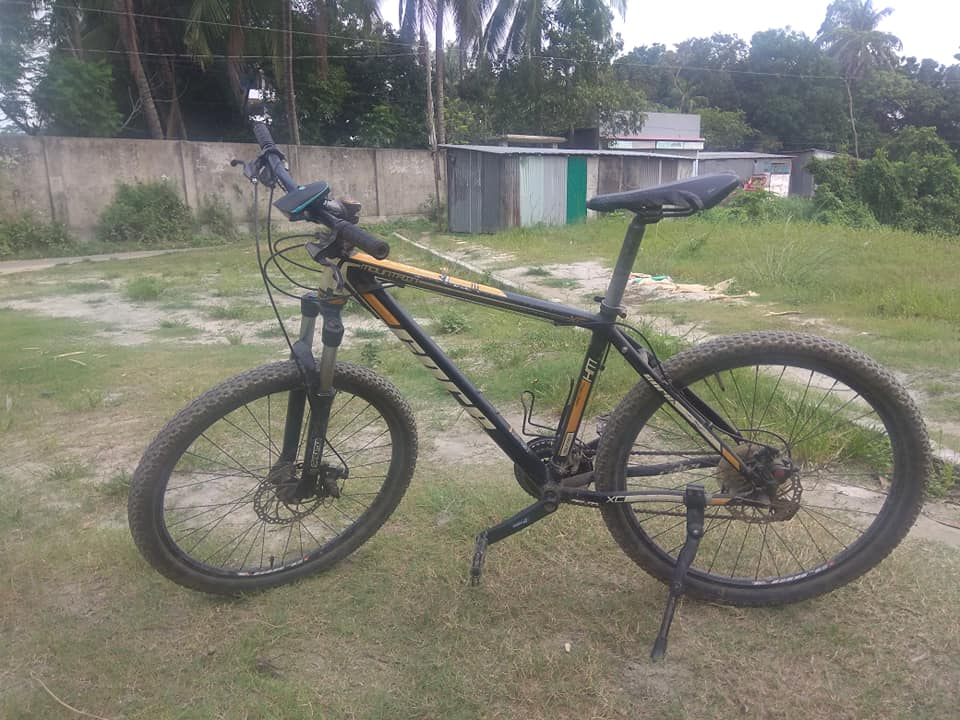bicycle: (106, 127, 936, 635)
